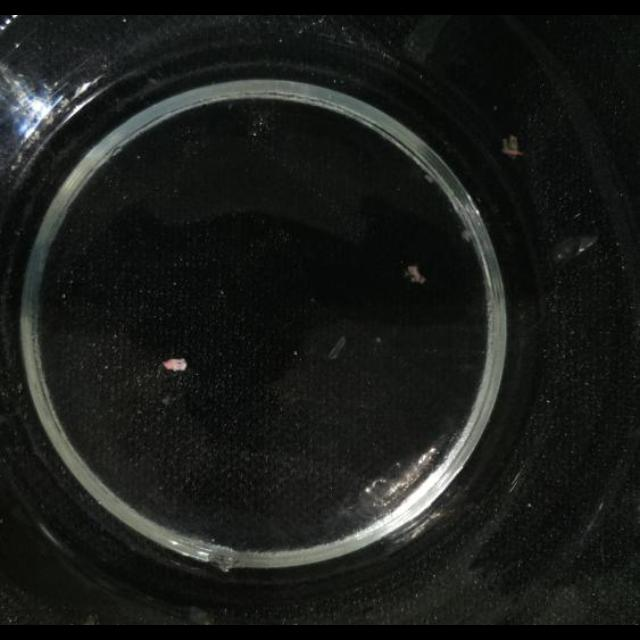Film: (554, 233, 598, 263)
Fragment: (160, 358, 190, 377), (498, 136, 522, 158), (404, 265, 424, 285)
microbeads: (292, 350, 298, 356), (60, 294, 66, 300), (526, 503, 532, 509)
